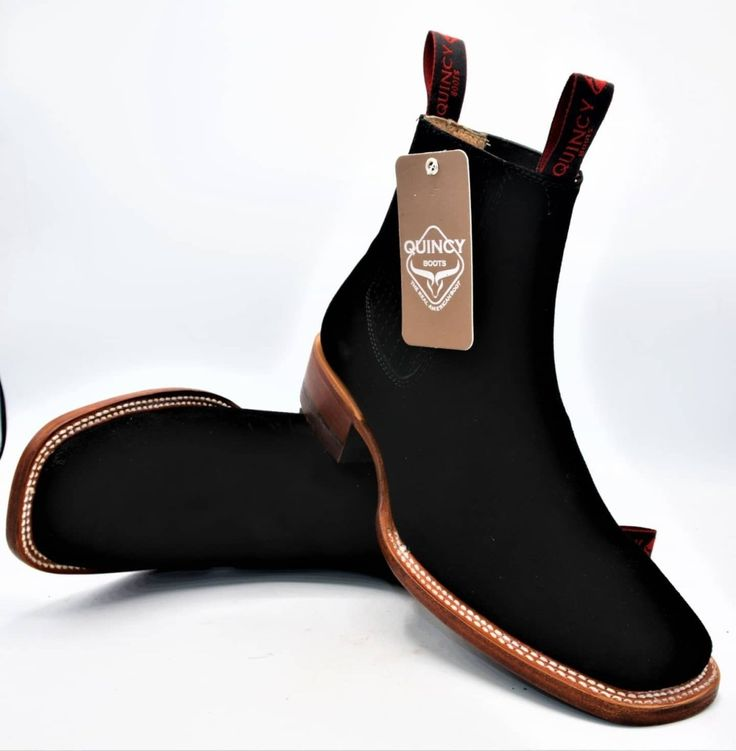gamuza: (33, 119, 712, 694)
